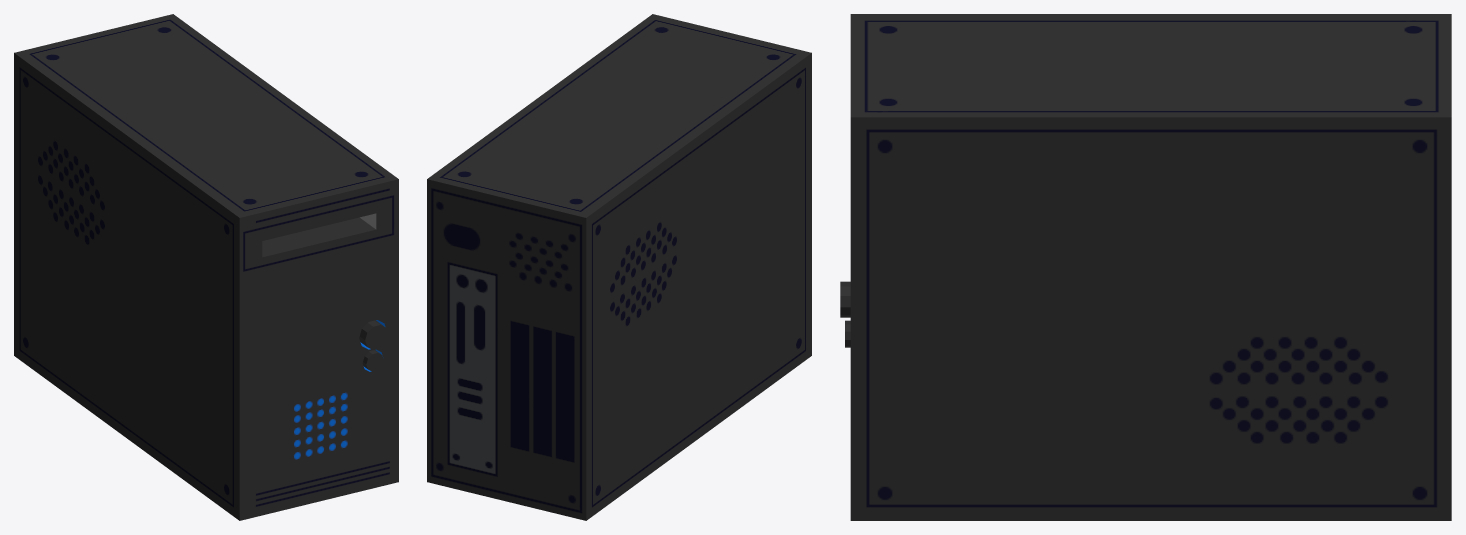
The model's file is Torre_pc.glb.
The picture shows the model from 3 angles, left to right: view 1: azimuth 30°, elevation 25°; view 2: azimuth 150°, elevation 25°; view 3: azimuth 270°, elevation 25°; orthographic projection. The views are drawn at different scales.
Visible parts, largest first — view 1: Torre_pc; view 2: Torre_pc; view 3: Torre_pc.
Boxes of the visible parts, bbox=[...] form: Torre_pc: bbox=[14, 14, 398, 520]; Torre_pc: bbox=[427, 14, 811, 520]; Torre_pc: bbox=[840, 14, 1451, 520].
Bounding box in the file's own units: 0.5248 × 0.9541 × 1.31.
Materials: 2 (1 with a texture image).
